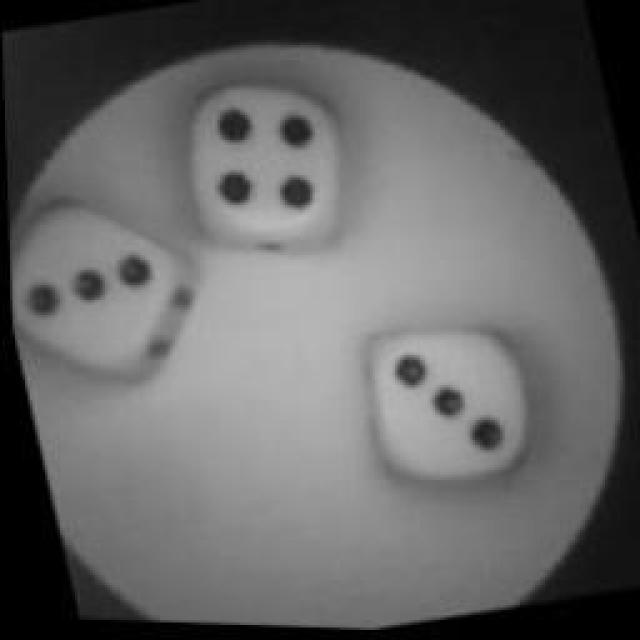dice_3: (5, 180, 200, 400), (342, 306, 536, 502)
dice_4: (166, 69, 362, 264)
